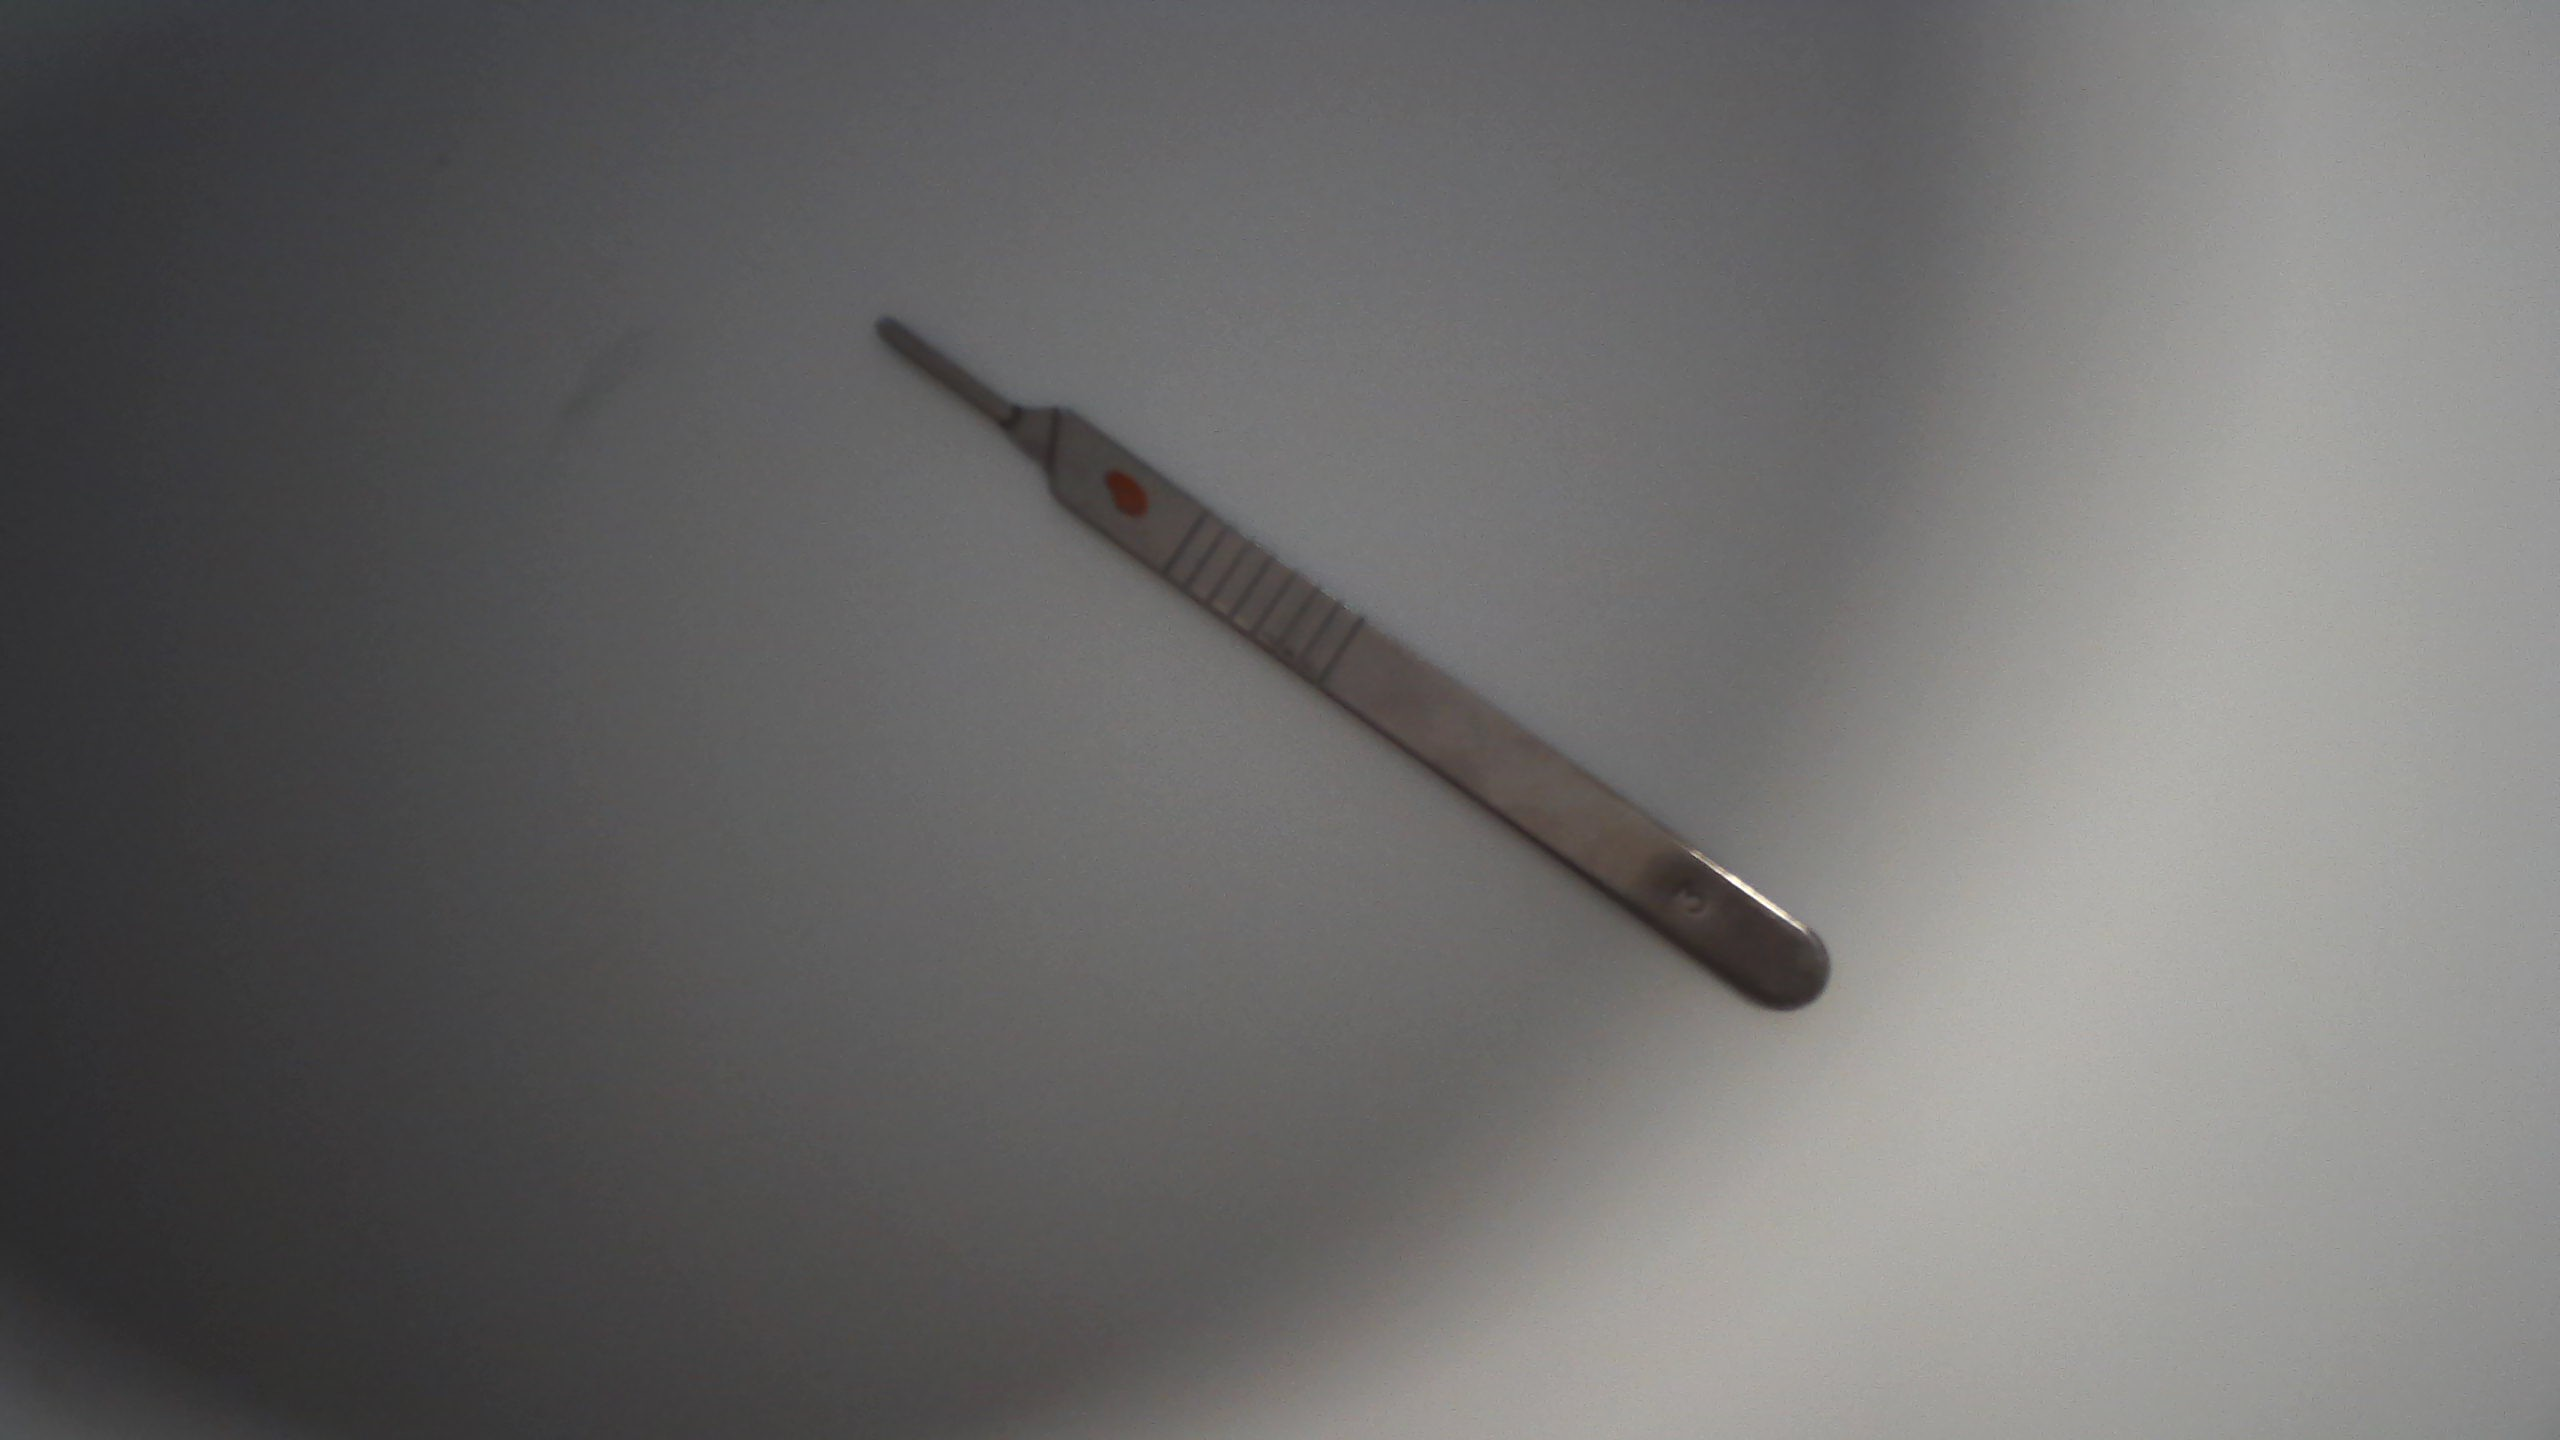Stain: (1087, 464, 1157, 536)
